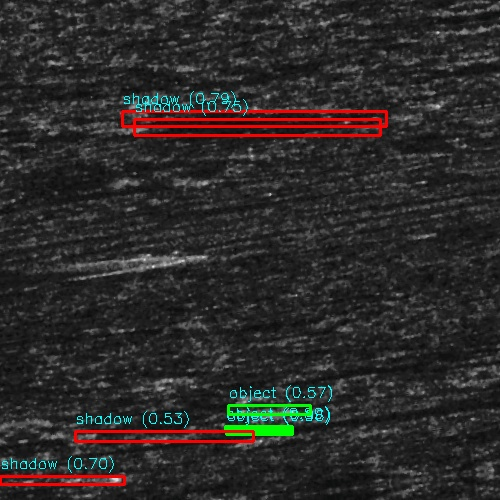rock: (62, 195, 177, 206)
shadow: (120, 195, 299, 206), (0, 214, 74, 225), (0, 114, 76, 119)
